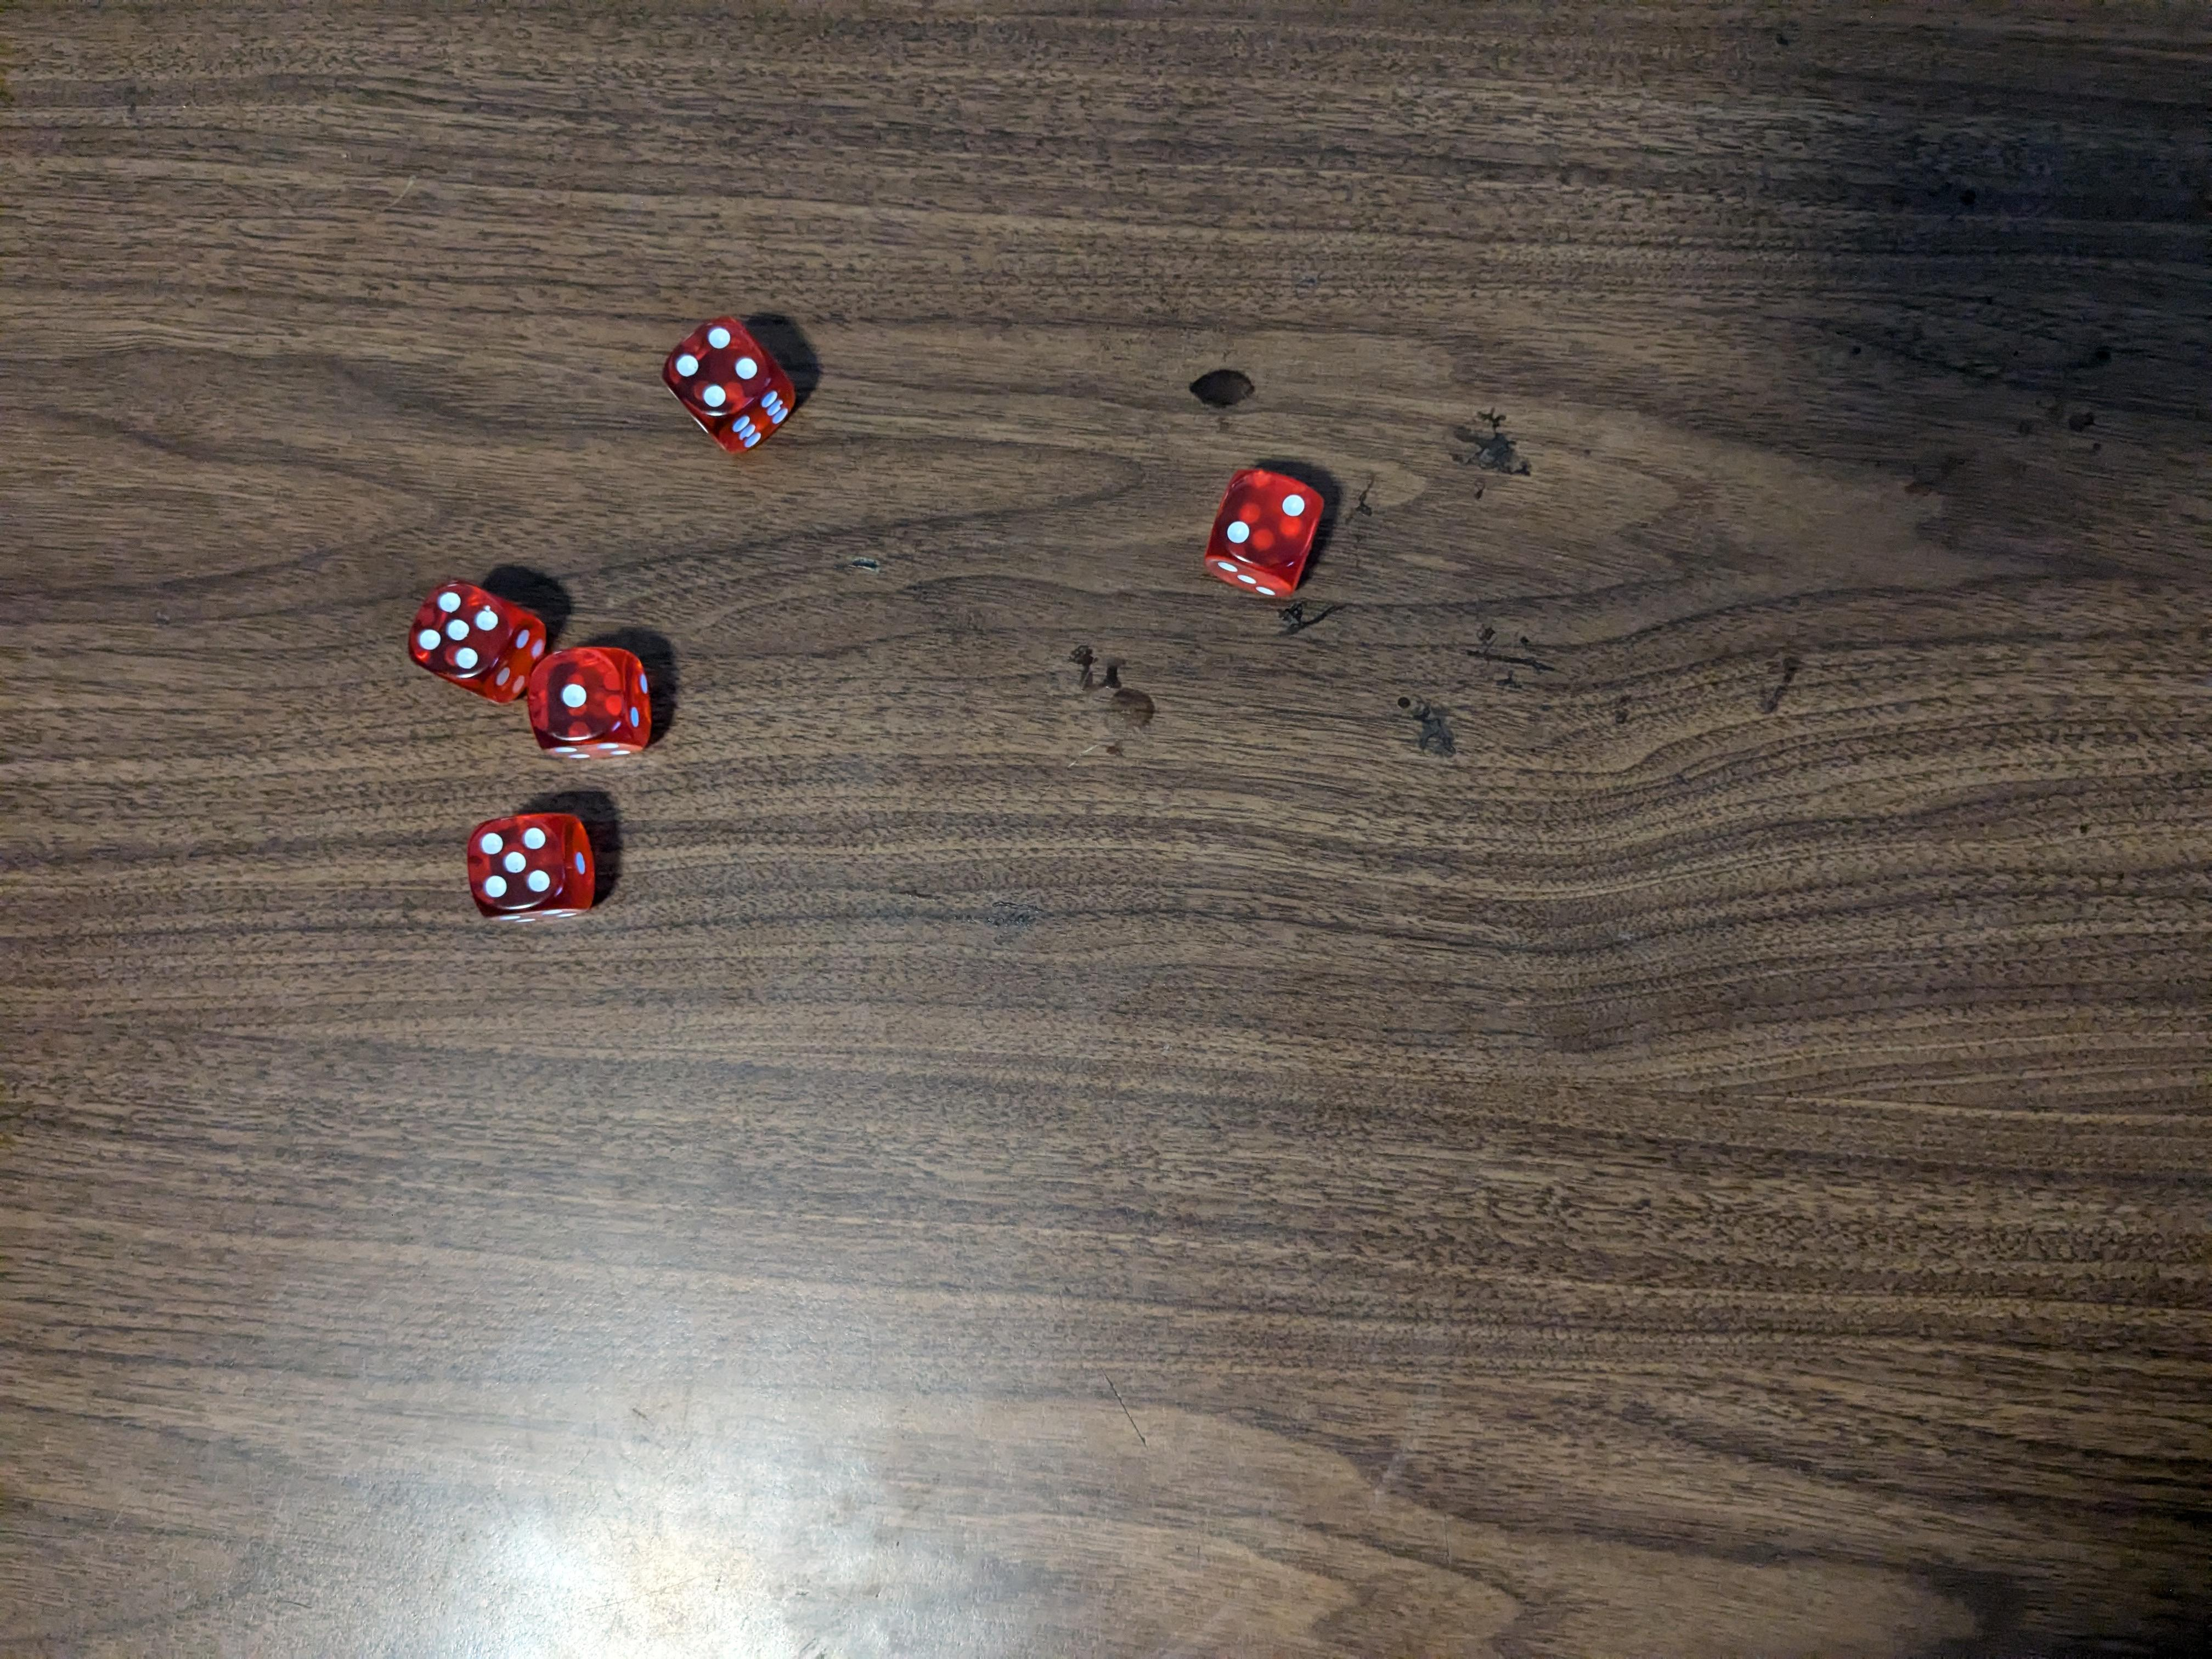five: (456, 812, 610, 924), (409, 573, 545, 699)
four: (660, 312, 799, 453)
one: (526, 645, 658, 763)
two: (1200, 460, 1336, 601)
